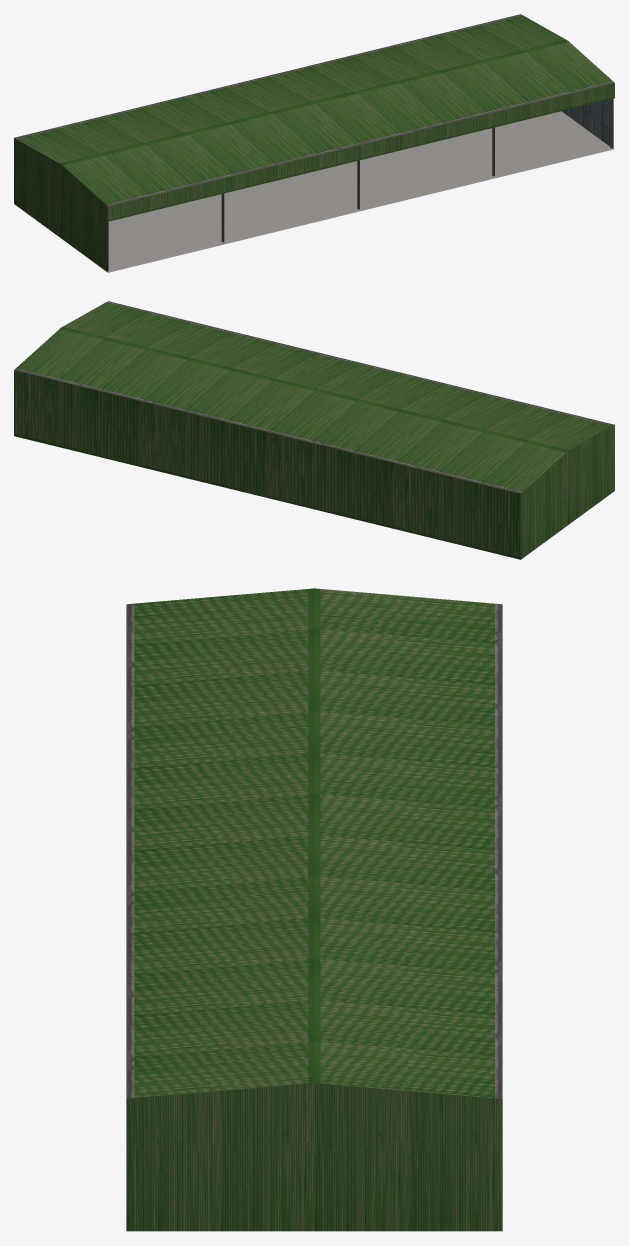
Rendered from hangar-open-side-56x18x7-cbj_LOD02.gltf.
3 renders of one model, top to bottom at view 1: azimuth 30°, elevation 25°; view 2: azimuth 150°, elevation 25°; view 3: azimuth 270°, elevation 25°, orthographic. The views are drawn at different scales.
Parts seen in each view (by area): view 1: inside03; view 2: inside03; view 3: inside03.
Part boxes in pixels (x1,y1,x2,y2): inside03: [14, 14, 614, 272]; inside03: [14, 301, 614, 559]; inside03: [126, 588, 502, 1231].
Size of the model in its own units: 56.01 by 7.86 by 18.01.
